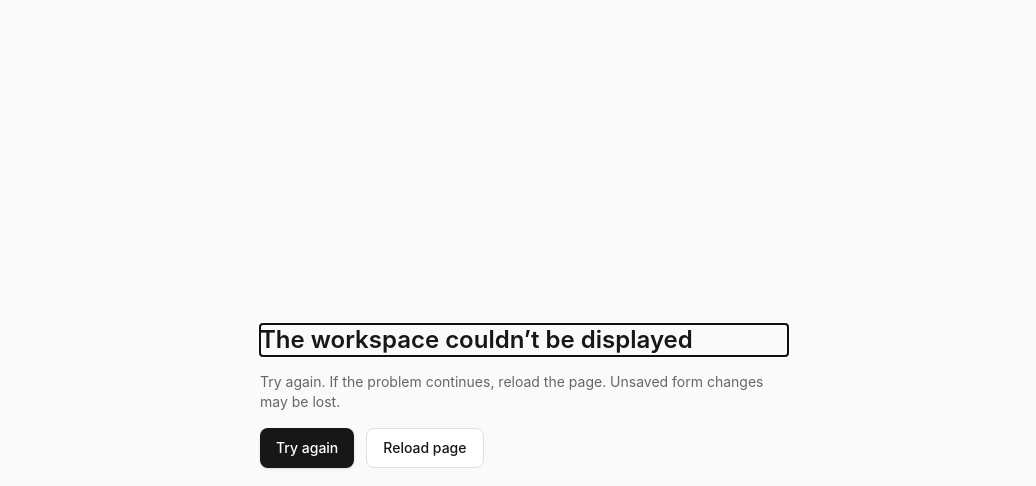
recovers after the problem is resolved and gives focus to the workspace
Click the button "Try again" at x=307, y=448, box [260,428,354,468]
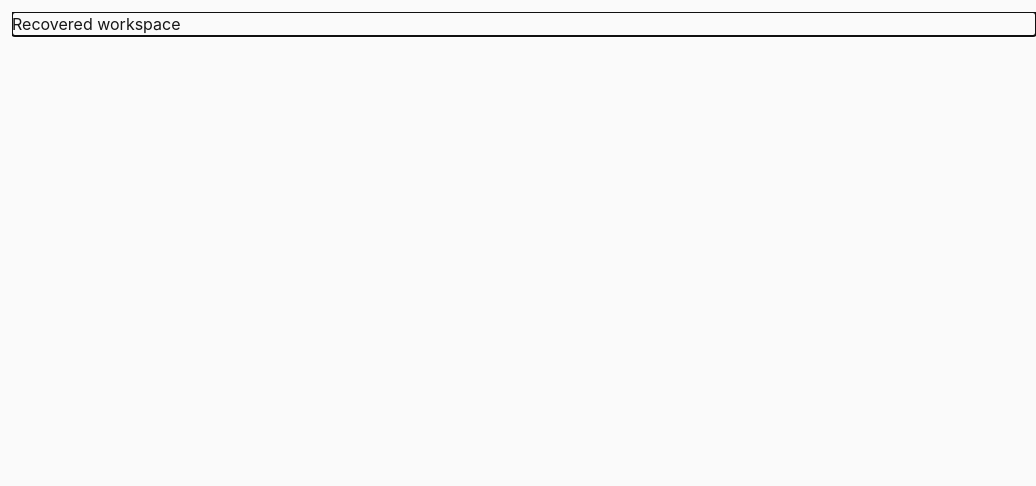
Expected: the heading "Recovered workspace" is shown, [12,14,180,34]
